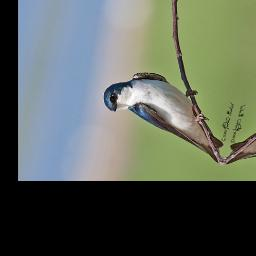Swallow: (90, 64, 240, 164)
